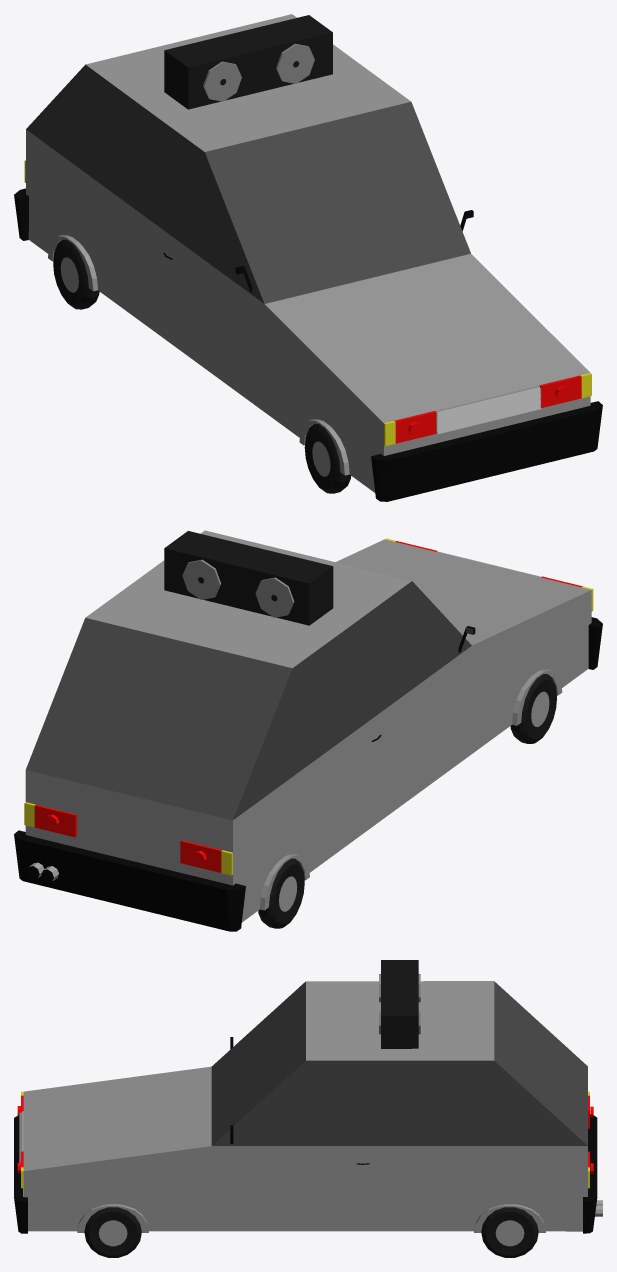
Rendered from carro_player.fbx.
3 views of the same model, one above another, from view 1: azimuth 30°, elevation 25°; view 2: azimuth 150°, elevation 25°; view 3: azimuth 270°, elevation 25° (orthographic). The views are drawn at different scales.
Parts seen in each view (by area): view 1: carro_player; view 2: carro_player; view 3: carro_player.
Part boxes in pixels (x1,y1,x2,y2): carro_player: (14, 14, 602, 501); carro_player: (14, 530, 602, 931); carro_player: (14, 960, 602, 1257).
Size of the model in its own units: 118 by 139 by 322.
